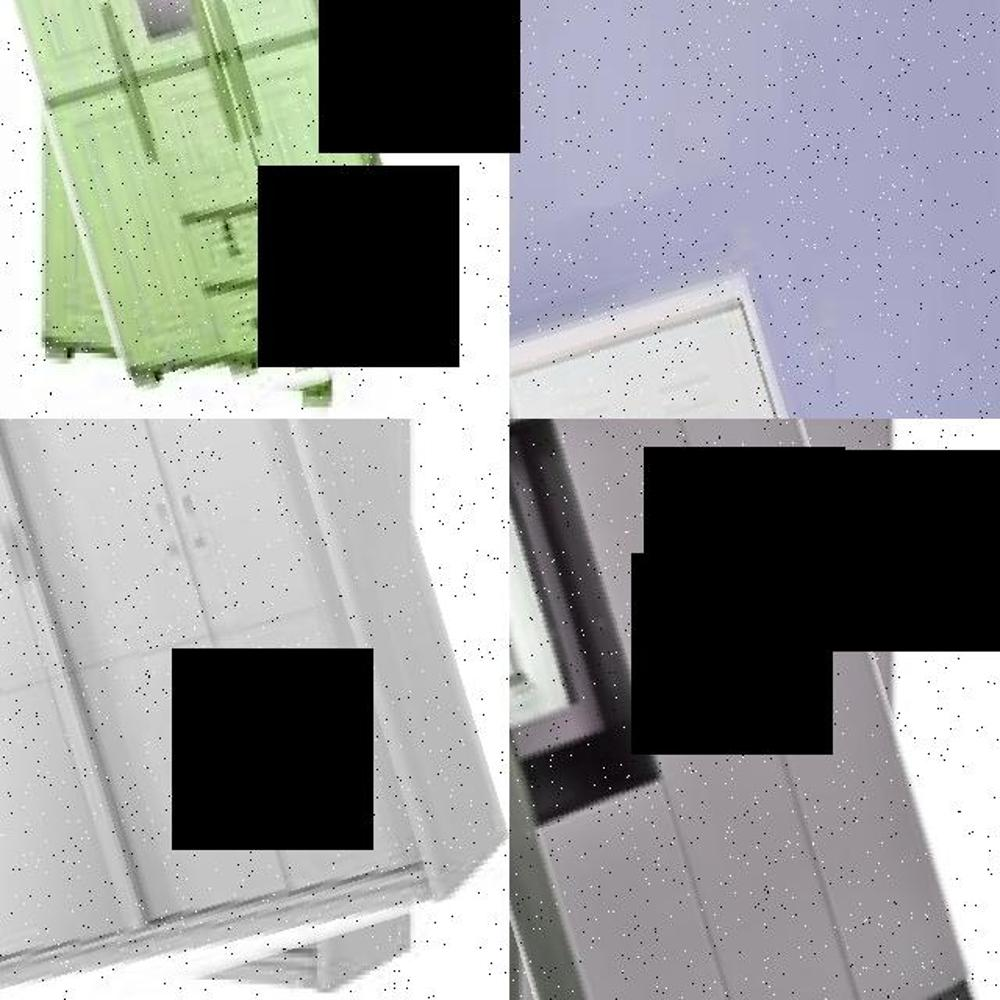cabinet: (0, 419, 466, 1000), (509, 419, 948, 1000), (0, 0, 395, 419), (509, 203, 906, 419)
